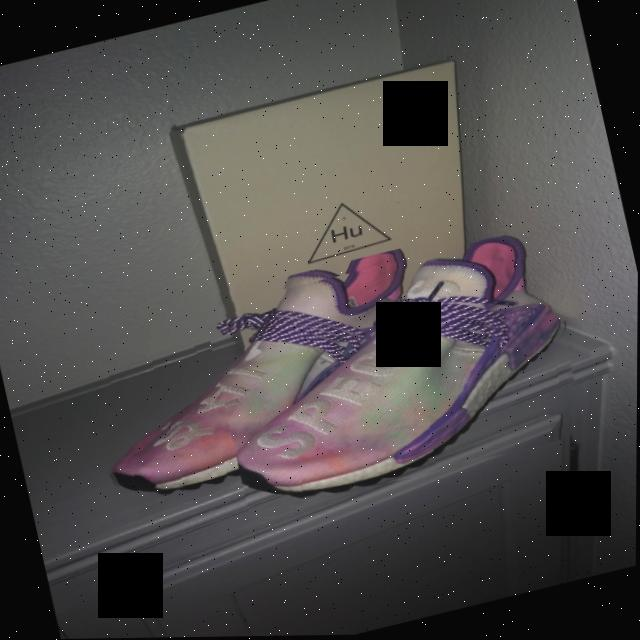shoe: (202, 225, 597, 519), (72, 247, 453, 517)
